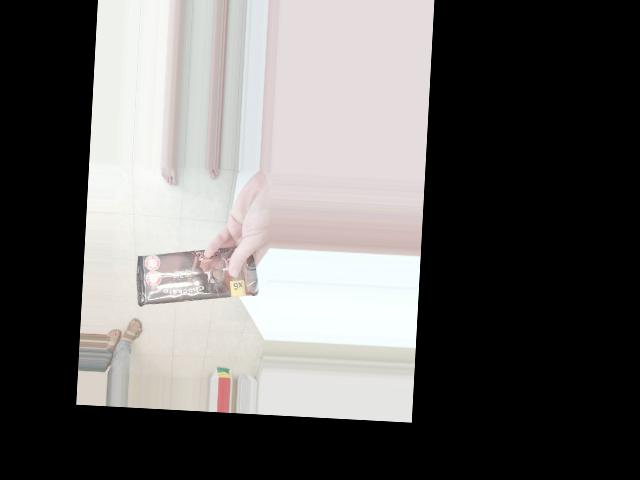chocolate: (135, 228, 264, 312)
